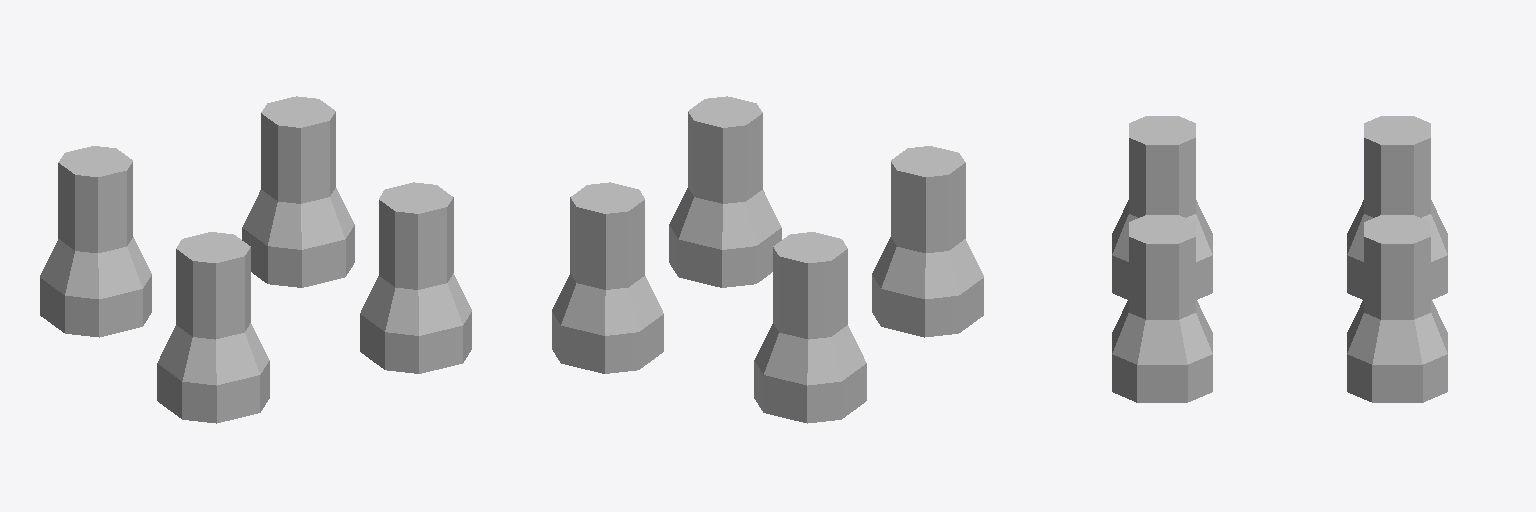
Rendered from support-four-bottom.obj.
3 views of the same model, side by side, from view 1: azimuth 30°, elevation 25°; view 2: azimuth 150°, elevation 25°; view 3: azimuth 270°, elevation 25° (orthographic).
Parts seen in each view (by area): view 1: support-four-bottom; view 2: support-four-bottom; view 3: support-four-bottom.
Boxes of the visible parts, x1=… form: support-four-bottom: x1=40, y1=96, x2=471, y2=423; support-four-bottom: x1=552, y1=96, x2=983, y2=423; support-four-bottom: x1=1112, y1=116, x2=1447, y2=402.
Size of the model in its own units: 0.9969 by 0.5 by 1.